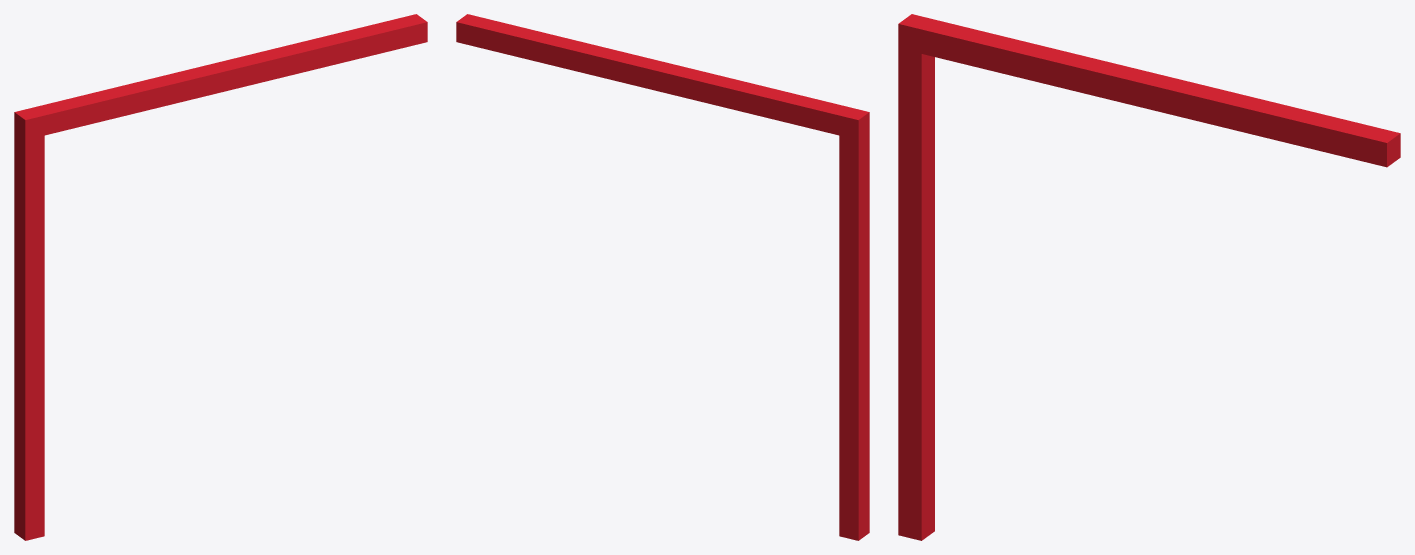
Rendered from SquareCorner3.obj.
The picture shows the model from 3 angles, left to right: view 1: azimuth 30°, elevation 25°; view 2: azimuth 150°, elevation 25°; view 3: azimuth 330°, elevation 25°; orthographic projection. The views are drawn at different scales.
Visible parts, largest first — view 1: obj_0; view 2: obj_0; view 3: obj_0.
Boxes of the visible parts, x1,y1,x2,y2 form: obj_0: (14,14,427,540); obj_0: (456,14,869,540); obj_0: (898,14,1400,540).
Size of the model in its own units: 0.9975 by 0.9975 by 0.0475.
